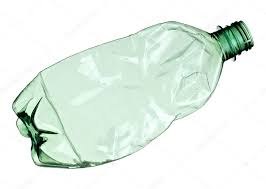plastic_bottle: (11, 20, 254, 169)
